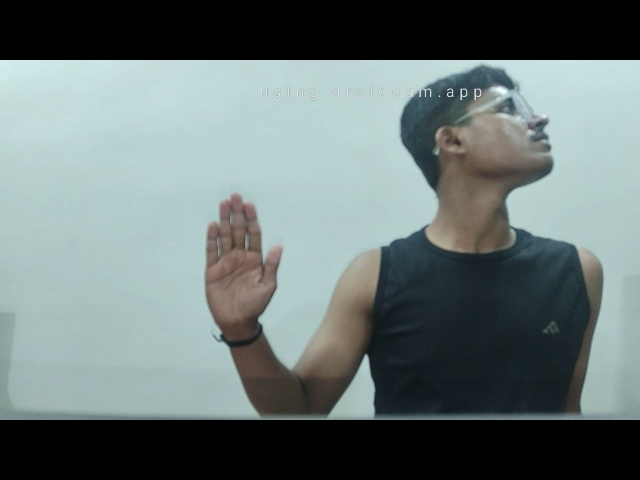Hello: (203, 189, 288, 329)
